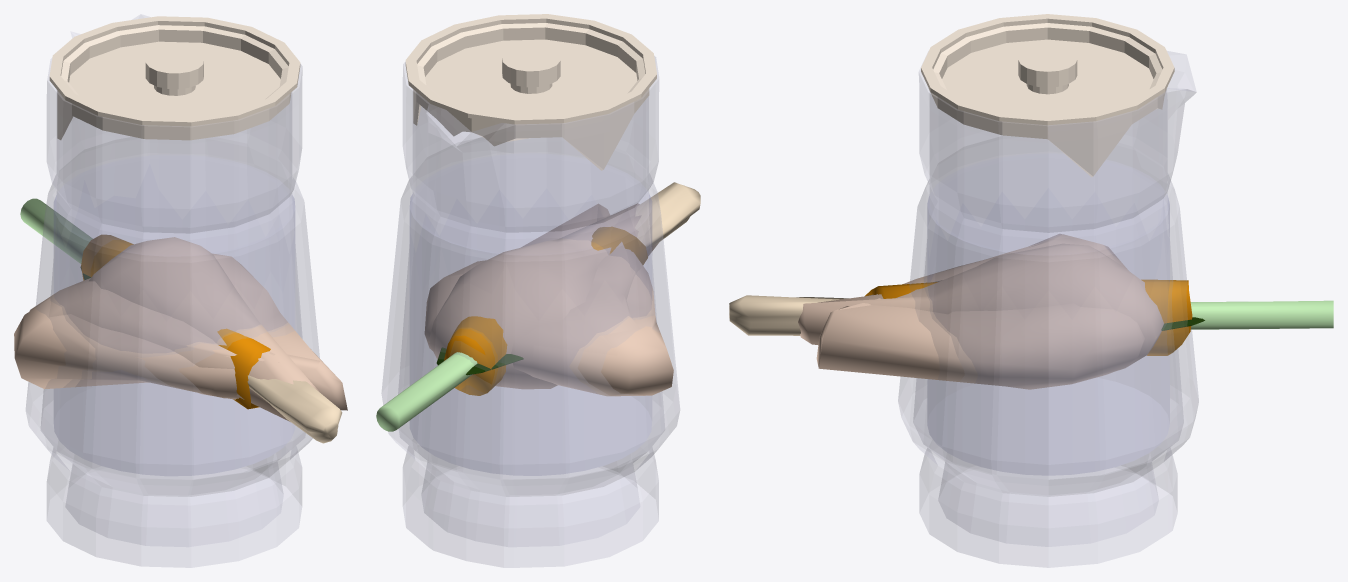
File: Foods.glb
The picture shows the model from 3 angles, left to right: view 1: azimuth 30°, elevation 25°; view 2: azimuth 150°, elevation 25°; view 3: azimuth 270°, elevation 25°; orthographic projection.
Parts seen in each view (by area): view 1: WATER, chicken.002, chicken, chicken.001, serai, kunyit; view 2: WATER, chicken, chicken.002, chicken.001, serai, kunyit, Daun Salam; view 3: WATER, chicken.002, chicken, serai, kunyit, chicken.001.
Part boxes in pixels (box(x1,y1,x2,y2)): WATER: box(26, 14, 319, 567); chicken.002: box(14, 253, 341, 398); chicken: box(89, 237, 321, 421); chicken.001: box(29, 278, 347, 410); serai: box(20, 198, 342, 443); kunyit: box(81, 235, 270, 409); WATER: box(381, 14, 679, 567); chicken: box(428, 203, 658, 389); chicken.002: box(424, 204, 673, 396); chicken.001: box(511, 204, 640, 377); serai: box(376, 182, 700, 431); kunyit: box(444, 227, 647, 395); Daun Salam: box(436, 347, 523, 375); WATER: box(898, 14, 1198, 567); chicken.002: box(819, 234, 1144, 389); chicken: box(798, 243, 1163, 369); serai: box(729, 295, 1333, 335); kunyit: box(865, 279, 1192, 355); chicken.001: box(816, 234, 1128, 368).
Size of the model in its own units: 0.6043 by 0.93 by 1.12.
